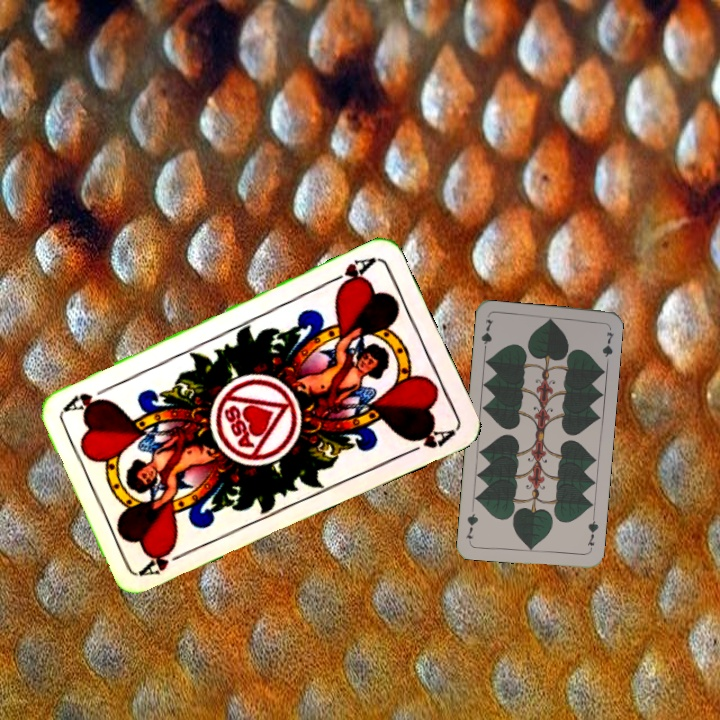G7: (477, 315, 496, 355), (583, 513, 601, 553)
HA: (323, 253, 378, 294), (136, 544, 193, 579)
